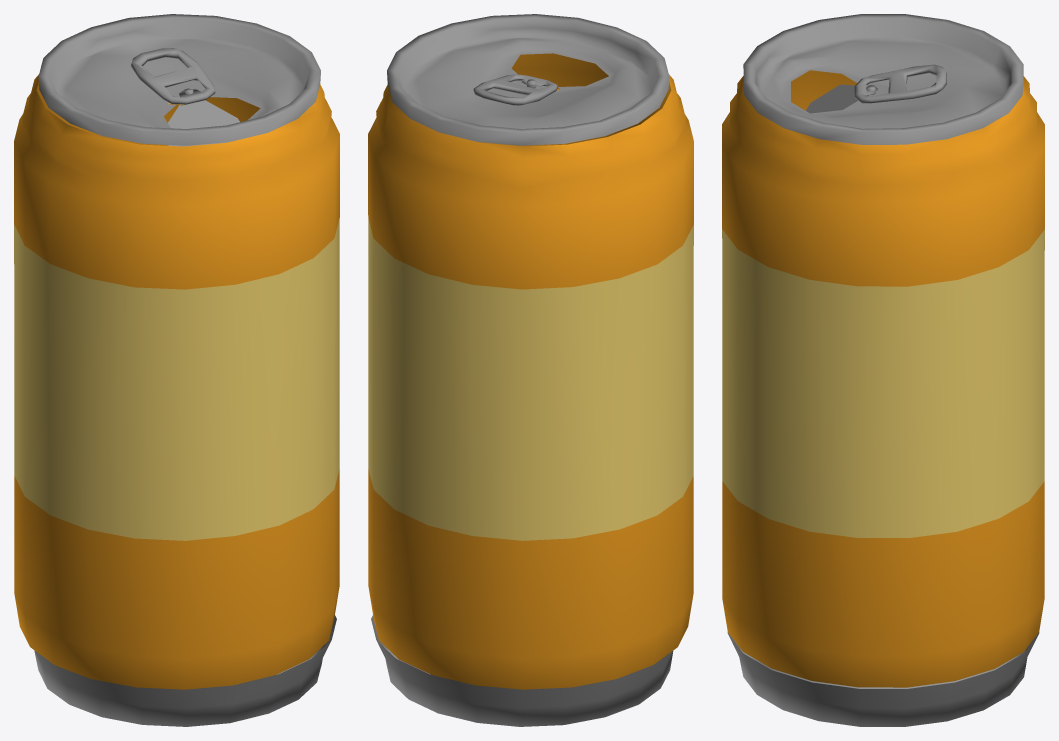
The model's file is can.gltf.
3 renders of one model, left to right at view 1: azimuth 30°, elevation 25°; view 2: azimuth 150°, elevation 25°; view 3: azimuth 270°, elevation 25°, orthographic.
Parts seen in each view (by area): view 1: body, bodyCenter, bothEnds; view 2: body, bodyCenter, bothEnds; view 3: body, bodyCenter, bothEnds.
Boxes of the visible parts, left/top/right/bottom form: body: left=14, top=74, right=339, bottom=689; bodyCenter: left=14, top=217, right=339, bottom=540; bothEnds: left=34, top=14, right=336, bottom=726; body: left=368, top=53, right=693, bottom=689; bodyCenter: left=368, top=218, right=693, bottom=540; bothEnds: left=371, top=14, right=673, bottom=726; body: left=722, top=70, right=1044, bottom=687; bodyCenter: left=722, top=227, right=1044, bottom=538; bothEnds: left=727, top=14, right=1039, bottom=726.
Size of the model in its own units: 1.94 by 3.95 by 1.94.
